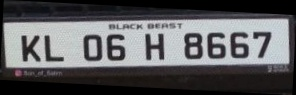character: (142, 30, 164, 62), (19, 33, 42, 63), (43, 33, 65, 63), (229, 30, 250, 60), (81, 33, 103, 61), (105, 33, 127, 61), (206, 31, 227, 59), (183, 31, 203, 60), (252, 30, 272, 59)
